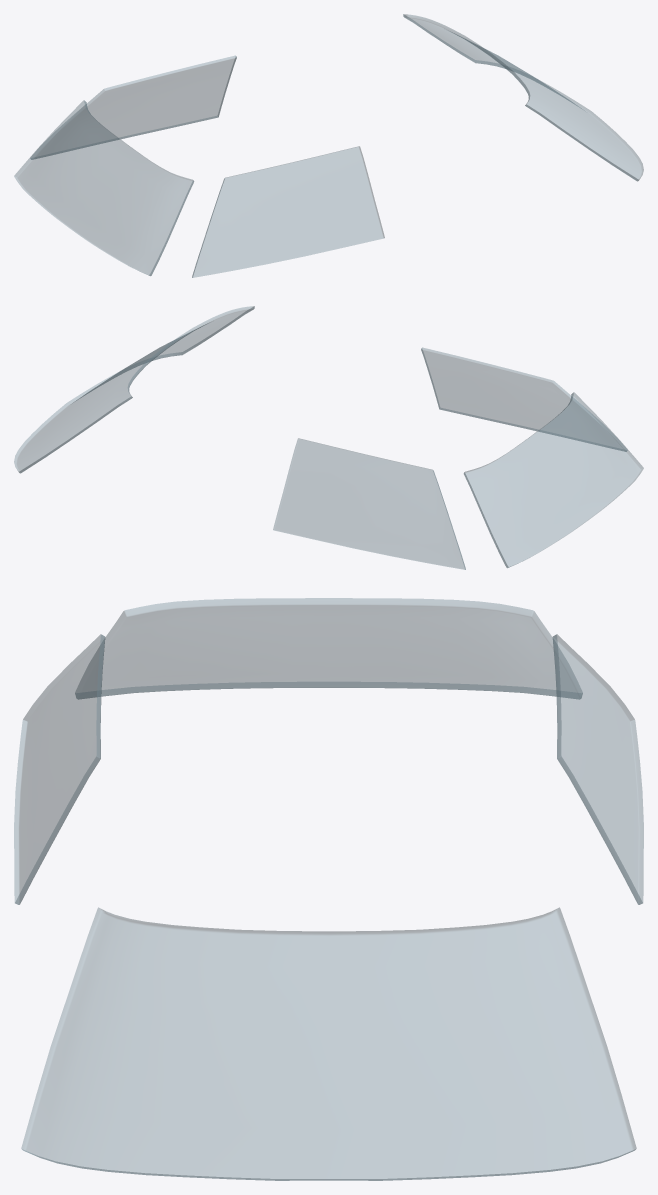
The picture shows the model from 3 angles, top to bottom: view 1: azimuth 30°, elevation 25°; view 2: azimuth 150°, elevation 25°; view 3: azimuth 270°, elevation 25°; orthographic projection. The views are drawn at different scales.
Parts seen in each view (by area): view 1: SM_MiniCooper_Glass_Ext2; view 2: SM_MiniCooper_Glass_Ext2; view 3: SM_MiniCooper_Glass_Ext2.
Part boxes in pixels (left/top/right/bottom): SM_MiniCooper_Glass_Ext2: left=14, top=14, right=643, bottom=277; SM_MiniCooper_Glass_Ext2: left=14, top=306, right=643, bottom=569; SM_MiniCooper_Glass_Ext2: left=14, top=598, right=643, bottom=1180.
Bounding box in the file's own units: 2.93 × 0.4588 × 1.63.
